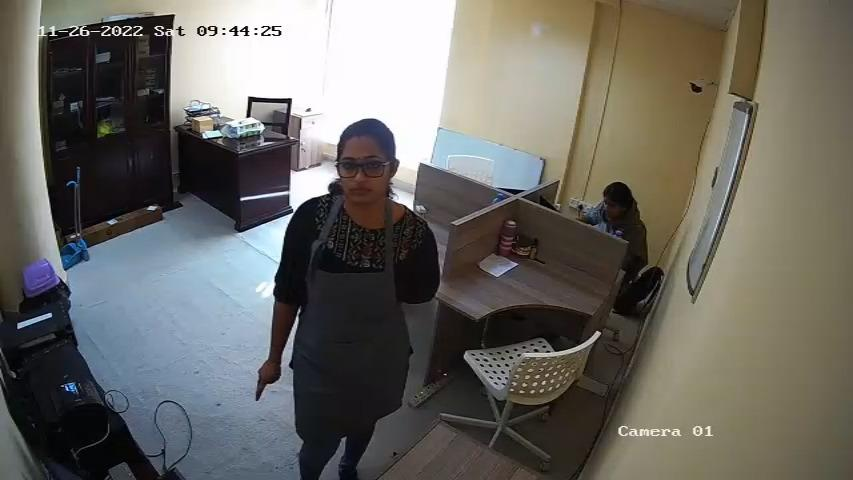apron: (296, 211, 404, 402)
